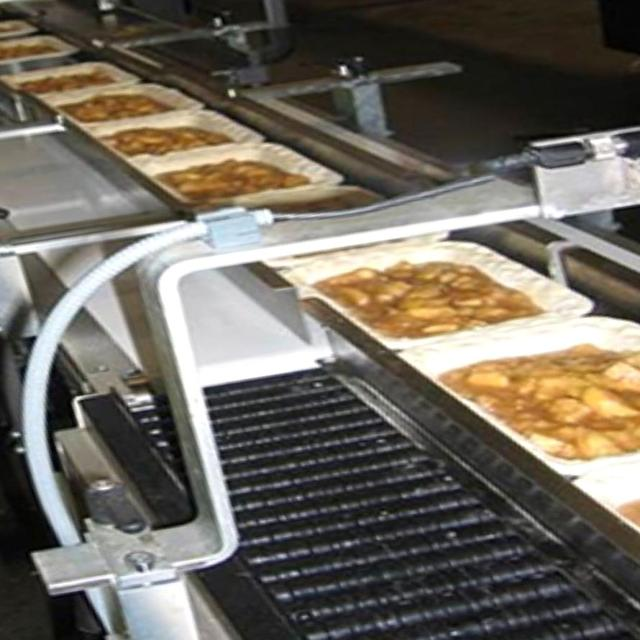food: (263, 236, 594, 353), (389, 324, 640, 475), (135, 146, 348, 222)
